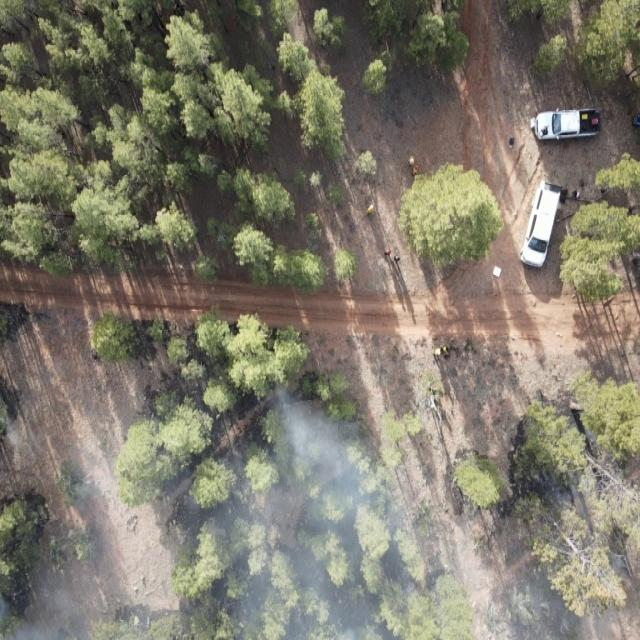smoke: (0, 421, 427, 640), (427, 516, 640, 640), (266, 378, 330, 422)
